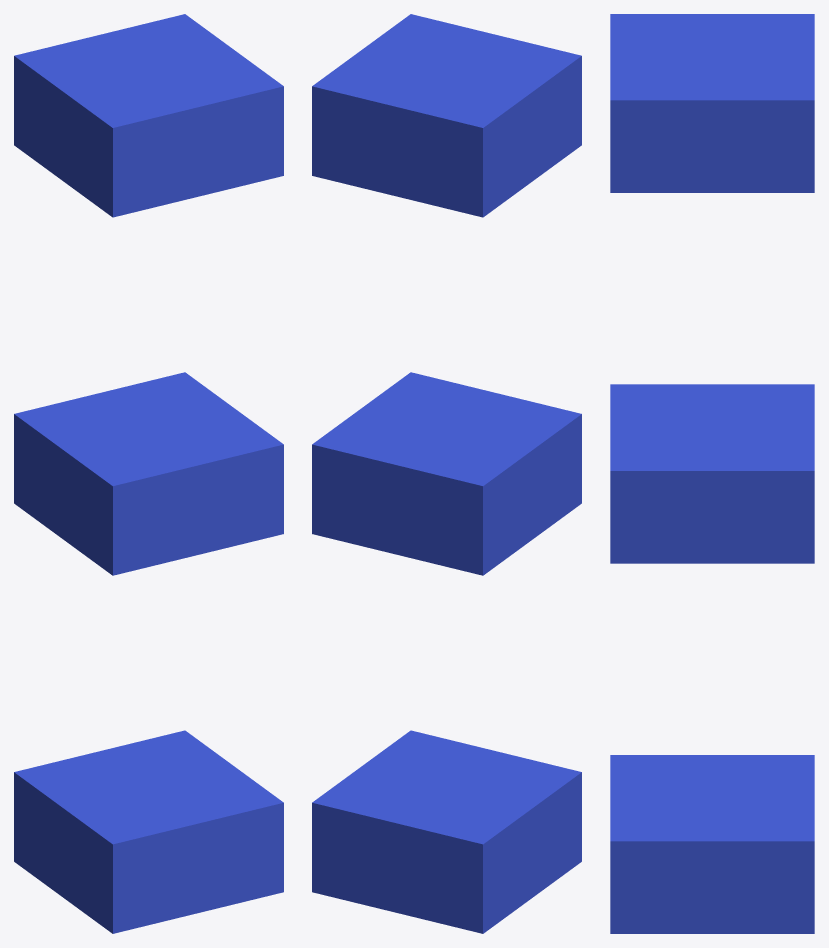
Rendered from ShapeMuseum.gltf.
3 renders of one model, left to right at view 1: azimuth 30°, elevation 25°; view 2: azimuth 150°, elevation 25°; view 3: azimuth 270°, elevation 25°, orthographic. The views are drawn at different scales.
Visible parts, largest first — view 1: Room.001, Room, Room.002; view 2: Room, Room.002, Room.001; view 3: Room, Room.001, Room.002.
Part boxes in pixels (box(x1,y1,x2,y2)): Room.001: box(14, 14, 283, 217); Room: box(14, 372, 283, 575); Room.002: box(14, 730, 283, 933); Room: box(312, 372, 581, 575); Room.002: box(312, 730, 581, 933); Room.001: box(312, 14, 581, 217); Room: box(610, 384, 814, 563); Room.001: box(610, 14, 814, 192); Room.002: box(610, 755, 814, 933).
Size of what is drawn, in the model's own units: 5 by 22.5 by 5.
